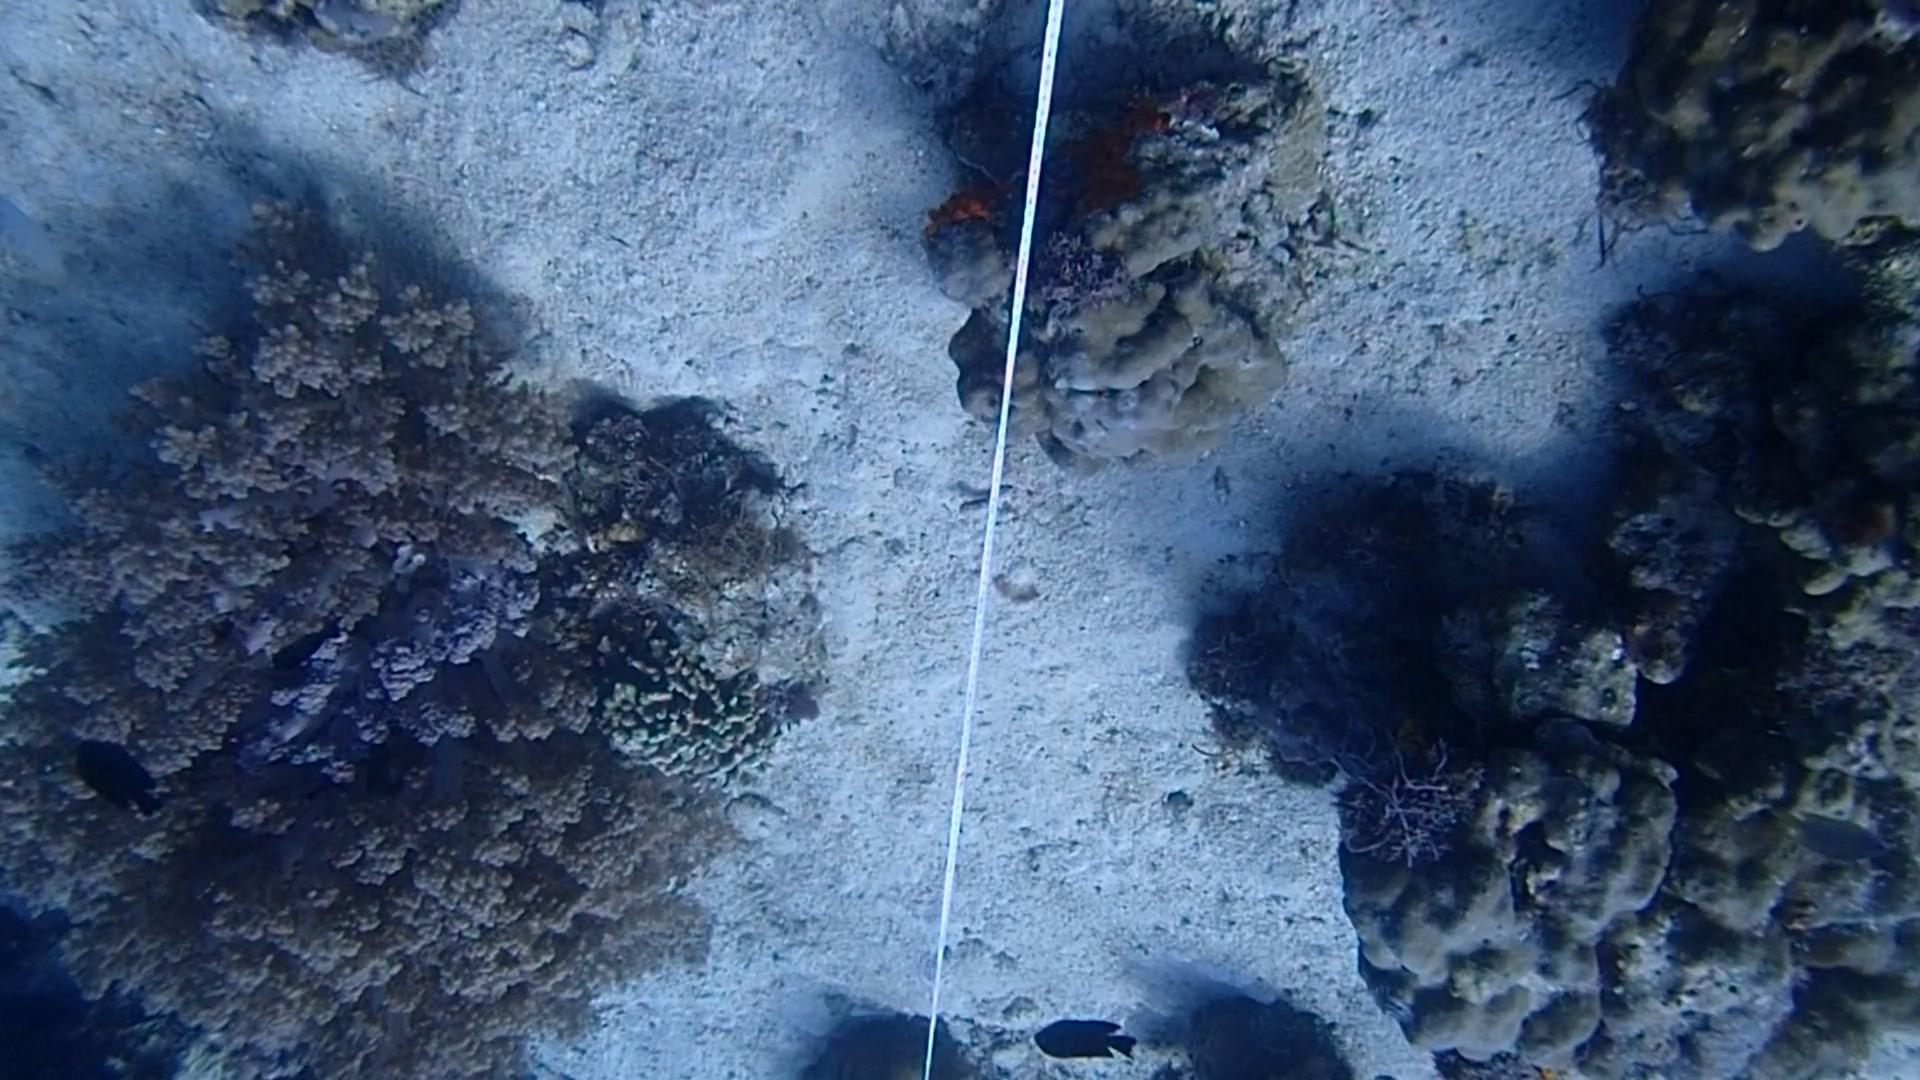Dark Fish: (65, 724, 174, 827), (252, 618, 349, 683), (1025, 1014, 1143, 1065)
